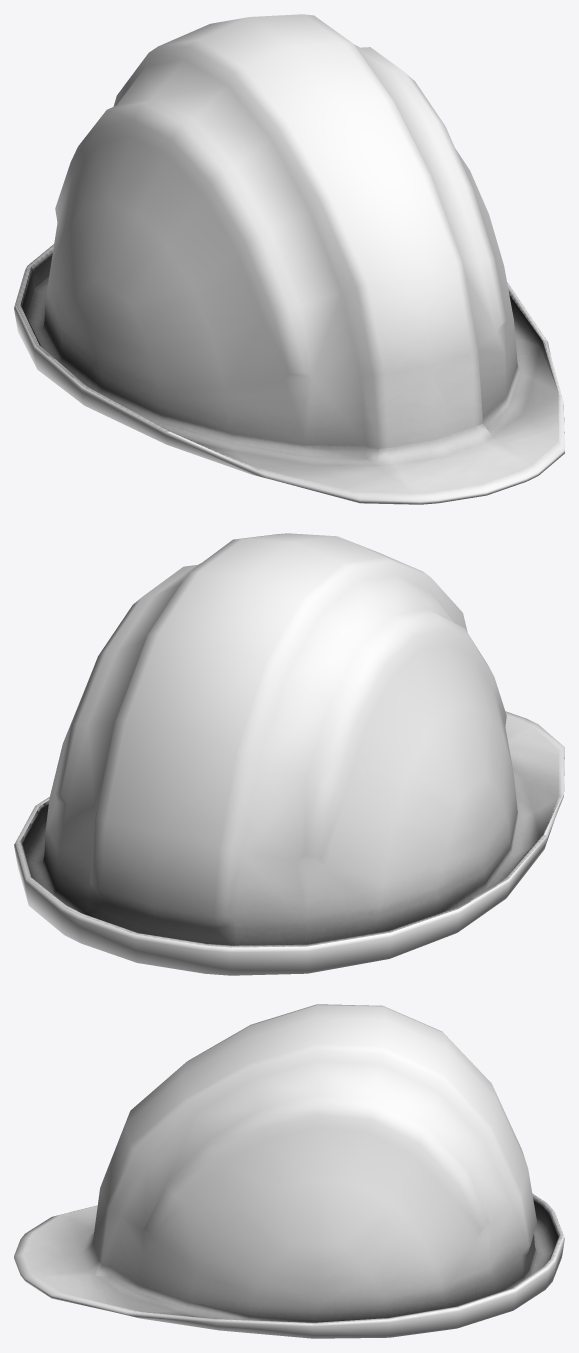
File: Casco.FBX
3 renders of one model, top to bottom at view 1: azimuth 30°, elevation 25°; view 2: azimuth 150°, elevation 25°; view 3: azimuth 270°, elevation 25°, orthographic. The views are drawn at different scales.
Parts seen in each view (by area): view 1: Casco; view 2: Casco; view 3: Casco.
Boxes of the visible parts, box(x1,y1,x2,y2) form: Casco: box(14, 14, 564, 504); Casco: box(14, 533, 564, 975); Casco: box(14, 1004, 564, 1338).
Size of the model in its own units: 0.2254 by 0.1572 by 0.3206.
1 material, 1 textured.
